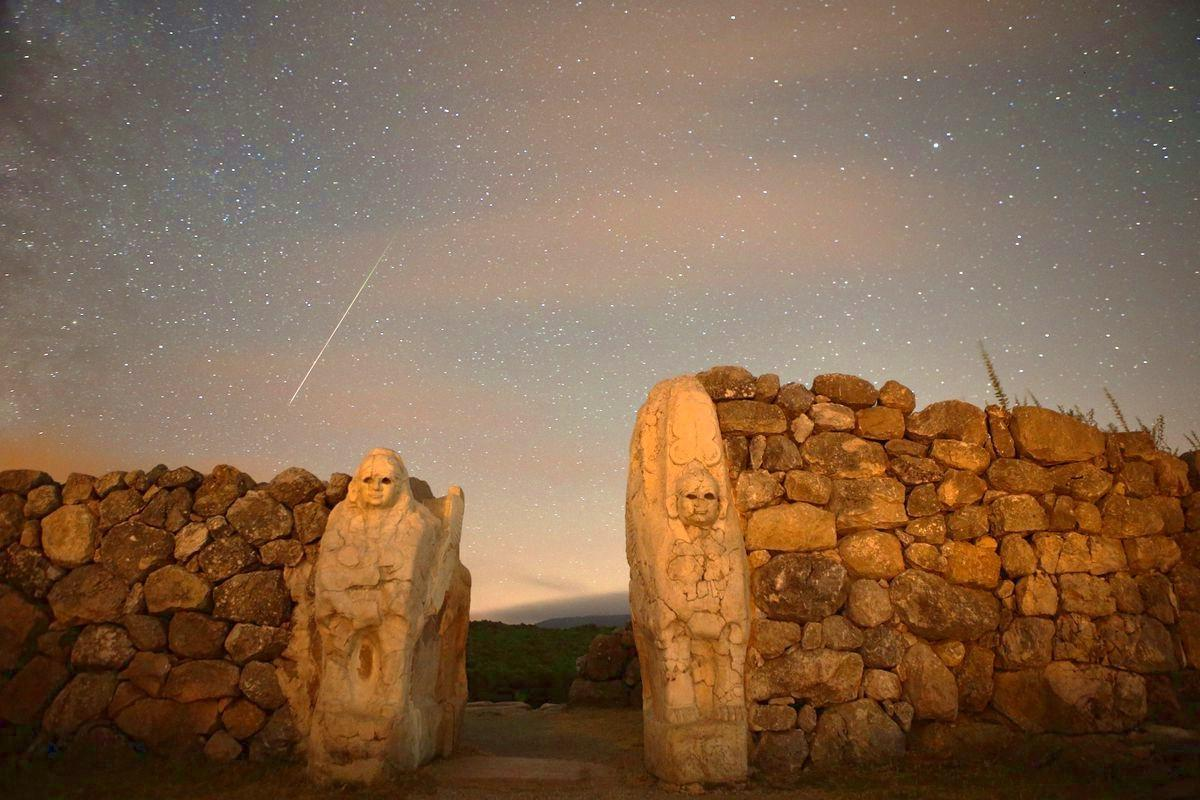meteorite: (258, 231, 425, 407)
